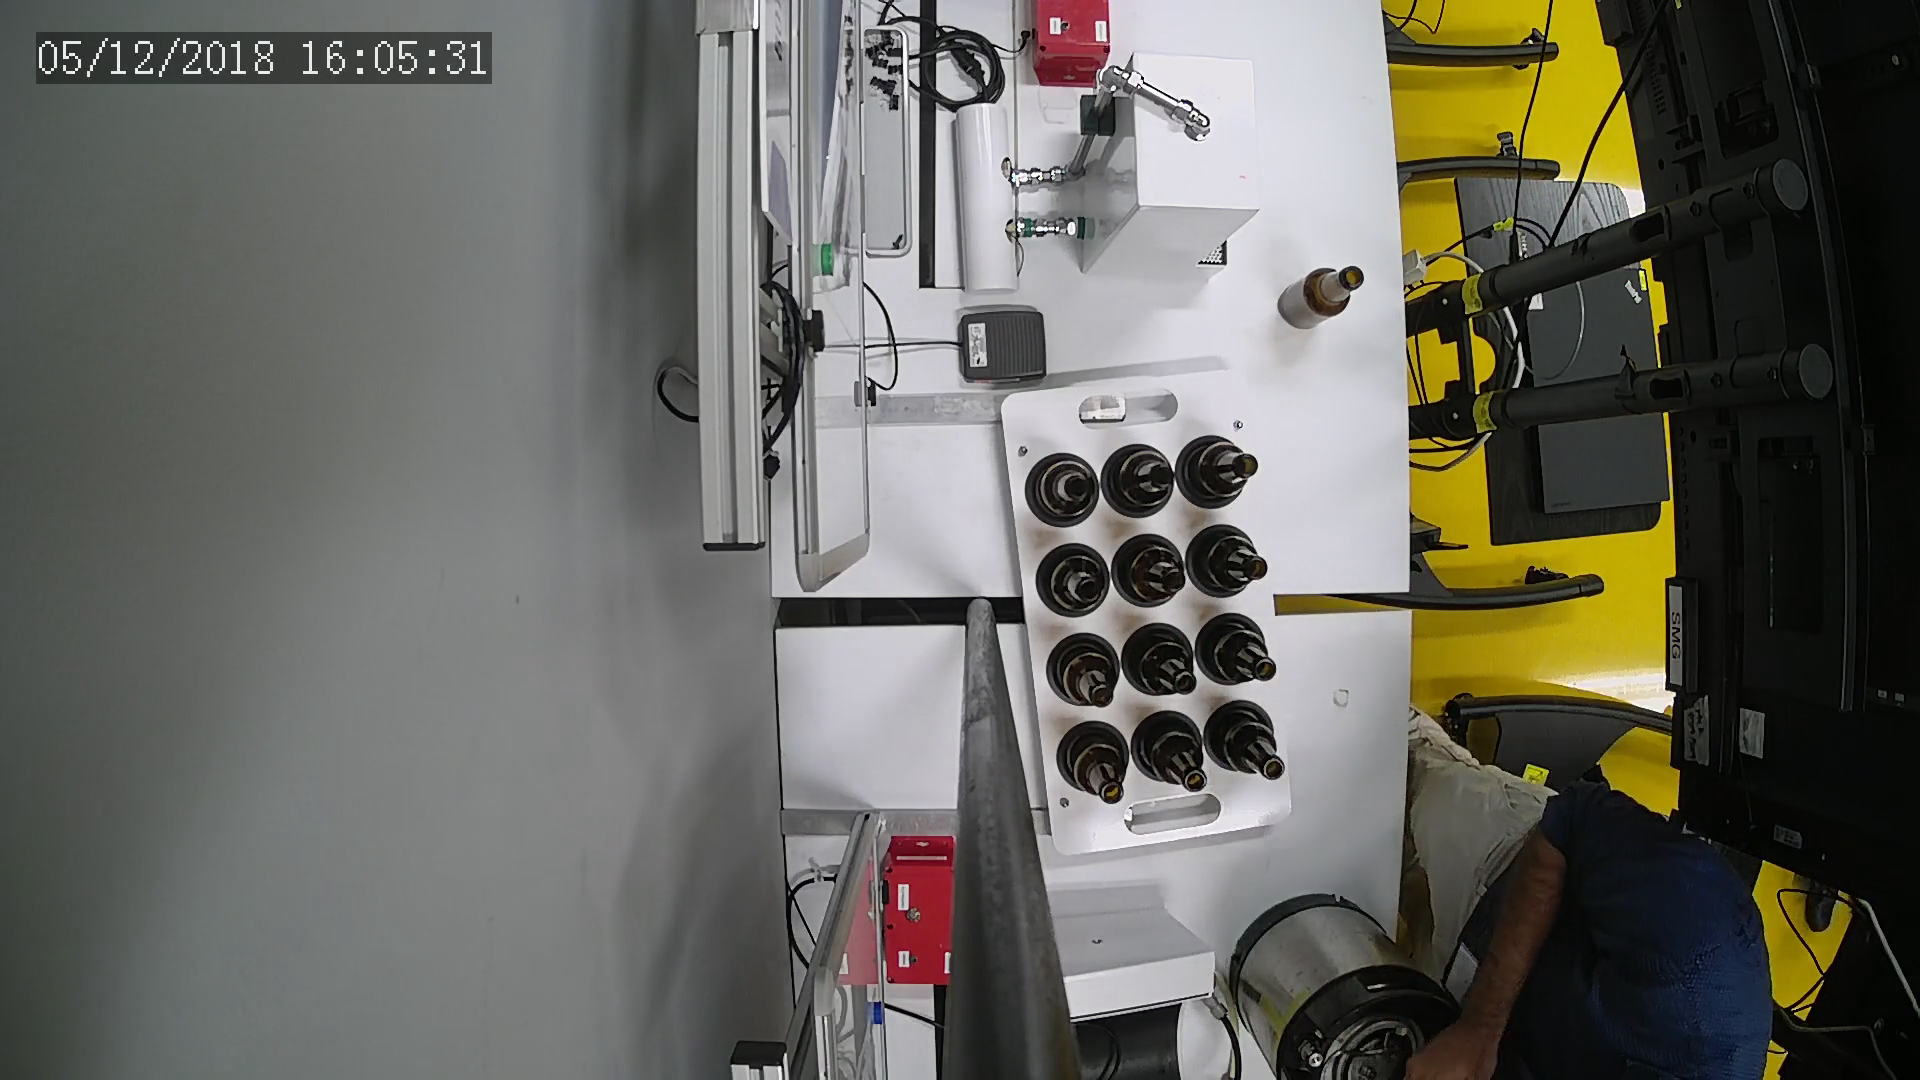filled_bottle: (1051, 717, 1139, 811), (1204, 695, 1291, 789), (1122, 615, 1204, 709), (1185, 524, 1278, 605), (1203, 611, 1287, 695), (1033, 541, 1114, 626), (1176, 433, 1266, 509), (1135, 711, 1211, 800), (1110, 530, 1189, 613), (1101, 440, 1174, 522), (1025, 454, 1101, 530), (1048, 636, 1122, 711)
trolley: (997, 361, 1299, 855)
unfilled_bottle: (1273, 266, 1371, 332)
